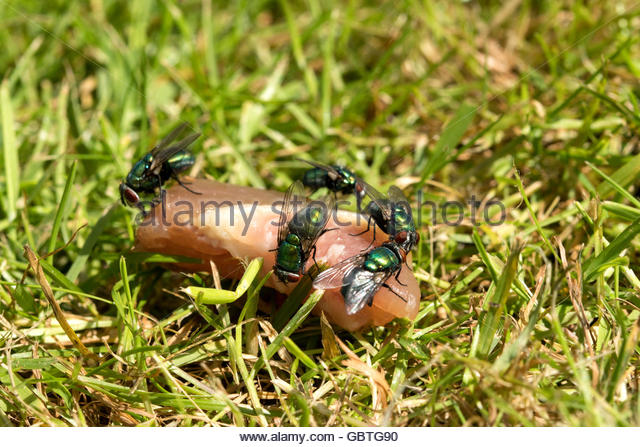green bottles flies: (103, 117, 217, 211), (339, 239, 419, 315), (271, 180, 332, 276), (363, 187, 423, 248), (299, 149, 366, 200)
